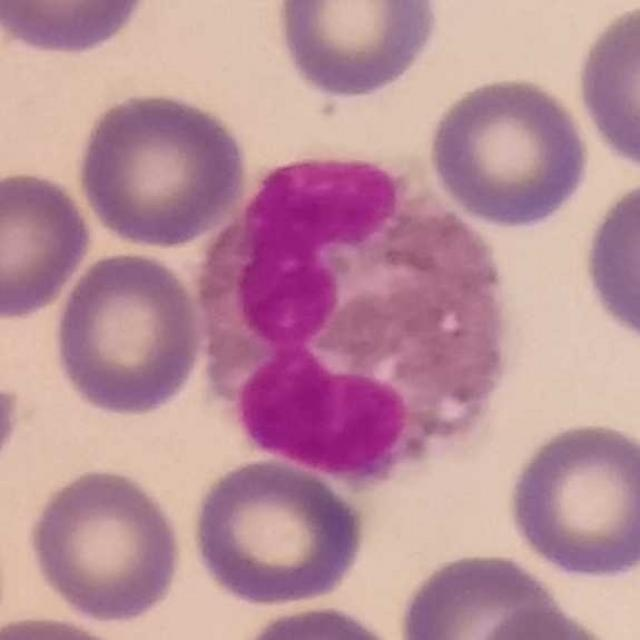eosino: (194, 153, 513, 489)
